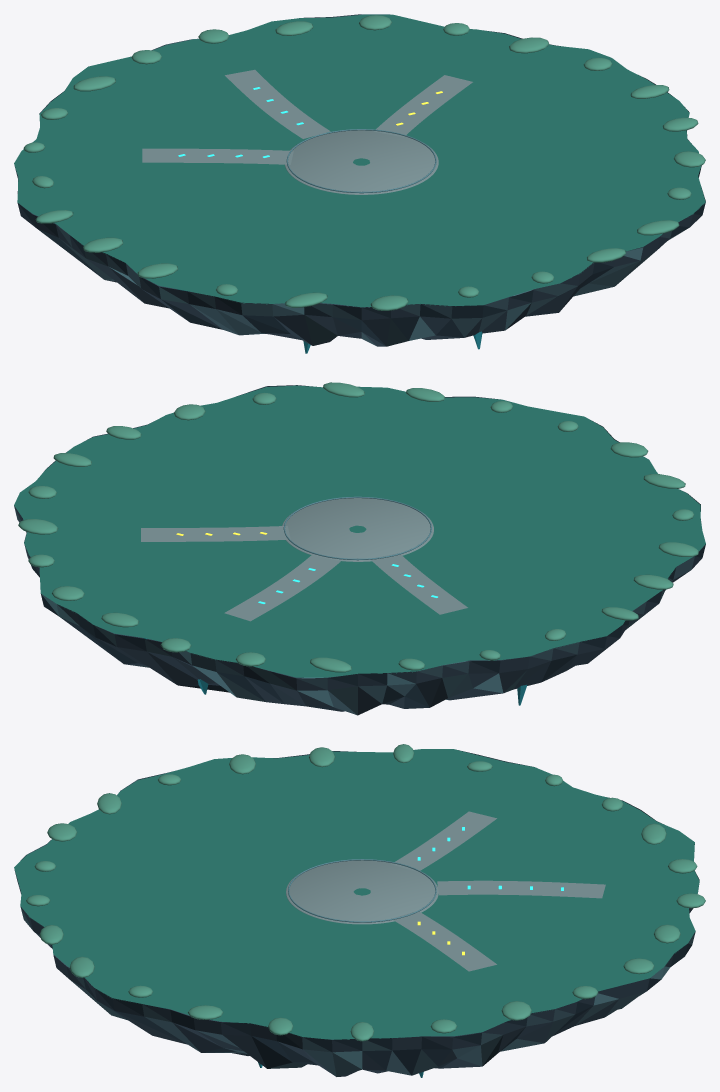
The model's file is island.glb.
3 renders of one model, top to bottom at view 1: azimuth 30°, elevation 25°; view 2: azimuth 150°, elevation 25°; view 3: azimuth 270°, elevation 25°, orthographic.
Visible parts, largest first — view 1: island; view 2: island; view 3: island.
Part boxes in pixels (x1,y1,x2,y2): island: (14,14,705,353); island: (14,382,705,715); island: (14,744,705,1077).
Bounding box in the file's own units: 17.4 × 4.24 × 17.18.
